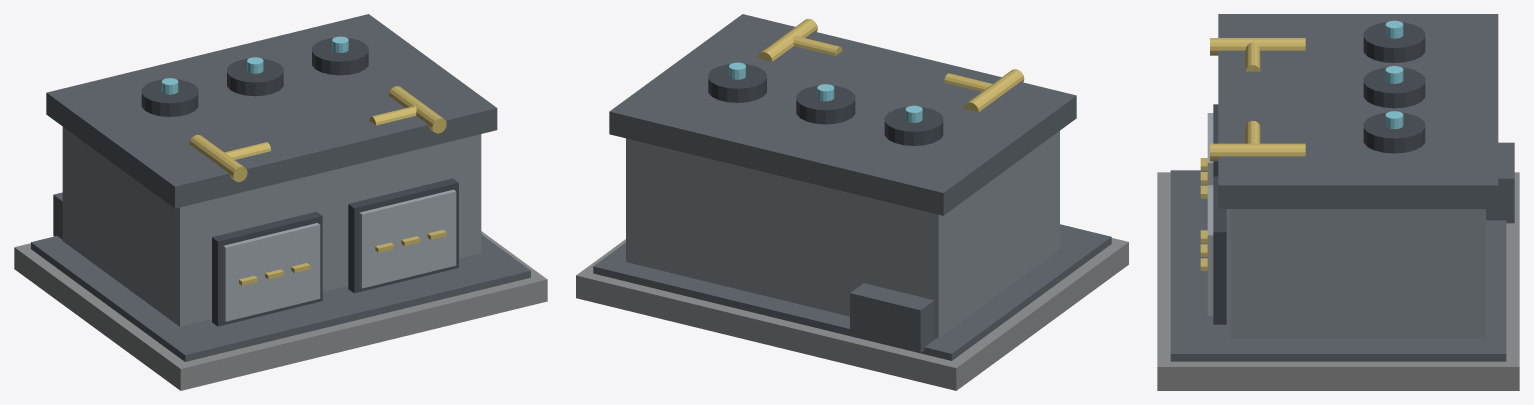
Rendered from human_garage.glb.
The picture shows the model from 3 angles, left to right: view 1: azimuth 30°, elevation 25°; view 2: azimuth 150°, elevation 25°; view 3: azimuth 270°, elevation 25°; orthographic projection. The views are drawn at different scales.
Visible parts, largest first — view 1: roof_plate, factory_shell, foundation, foundation_top, bay_door_1, bay_door_-1, bay_recess_-1, bay_recess_1, roof_fan_-0.65, roof_fan_0.0, roof_fan_0.65, gantry_rail_-1 (+2 smaller); view 2: factory_shell, roof_plate, foundation, foundation_top, compressor_unit, roof_fan_0.0, roof_fan_-0.65, roof_fan_0.65, gantry_rail_-1, gantry_rail_1, gantry_cross_1, gantry_cross_-1; view 3: roof_plate, factory_shell, foundation_top, foundation, roof_fan_0.0, roof_fan_-0.65, roof_fan_0.65, bay_recess_1, compressor_unit, gantry_rail_1, gantry_rail_-1, bay_door_1 (+5 smaller).
Part boxes in pixels (x1,y1,x2,y2): roof_plate: (46, 14, 497, 208); factory_shell: (62, 127, 481, 326); foundation: (14, 231, 547, 390); foundation_top: (31, 234, 530, 361); bay_door_1: (359, 189, 456, 288); bay_door_-1: (223, 223, 320, 321); bay_recess_-1: (212, 211, 322, 326); bay_recess_1: (348, 178, 458, 293); roof_fan_-0.65: (141, 79, 198, 116); roof_fan_0.0: (227, 58, 283, 96); roof_fan_0.65: (312, 38, 368, 75); gantry_rail_-1: (189, 134, 247, 182); factory_shell: (626, 131, 1059, 338); roof_plate: (609, 14, 1076, 215); foundation: (576, 238, 1128, 390); foundation_top: (593, 224, 1111, 360); compressor_unit: (850, 283, 936, 352); roof_fan_0.0: (796, 85, 855, 124); roof_fan_-0.65: (884, 107, 943, 145); roof_fan_0.65: (708, 64, 766, 102); gantry_rail_-1: (964, 69, 1024, 111); gantry_rail_1: (757, 18, 817, 61); gantry_cross_1: (793, 36, 842, 55); gantry_cross_-1: (944, 73, 992, 91); roof_plate: (1218, 14, 1498, 208); factory_shell: (1230, 209, 1485, 339); foundation_top: (1170, 170, 1506, 361); foundation: (1157, 172, 1519, 390); roof_fan_0.0: (1363, 67, 1425, 108); roof_fan_-0.65: (1363, 22, 1425, 62); roof_fan_0.65: (1363, 112, 1425, 153); bay_recess_1: (1213, 176, 1226, 324); compressor_unit: (1486, 142, 1514, 223); gantry_rail_1: (1210, 143, 1305, 161); gantry_rail_-1: (1210, 38, 1305, 55); bay_door_1: (1207, 185, 1213, 315).
Size of the model in its own units: 2.8 by 1.5 by 2.2.
